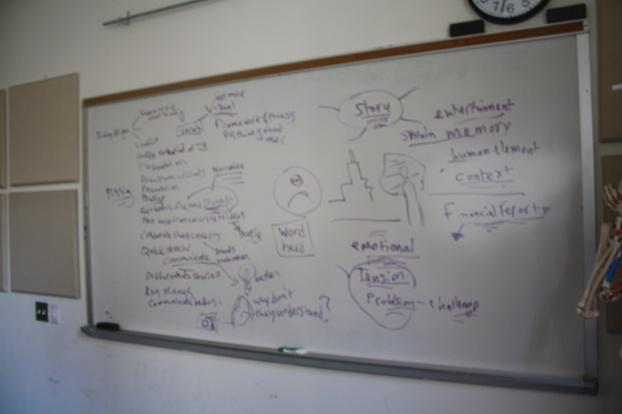Whiteboard: (80, 25, 597, 393)
